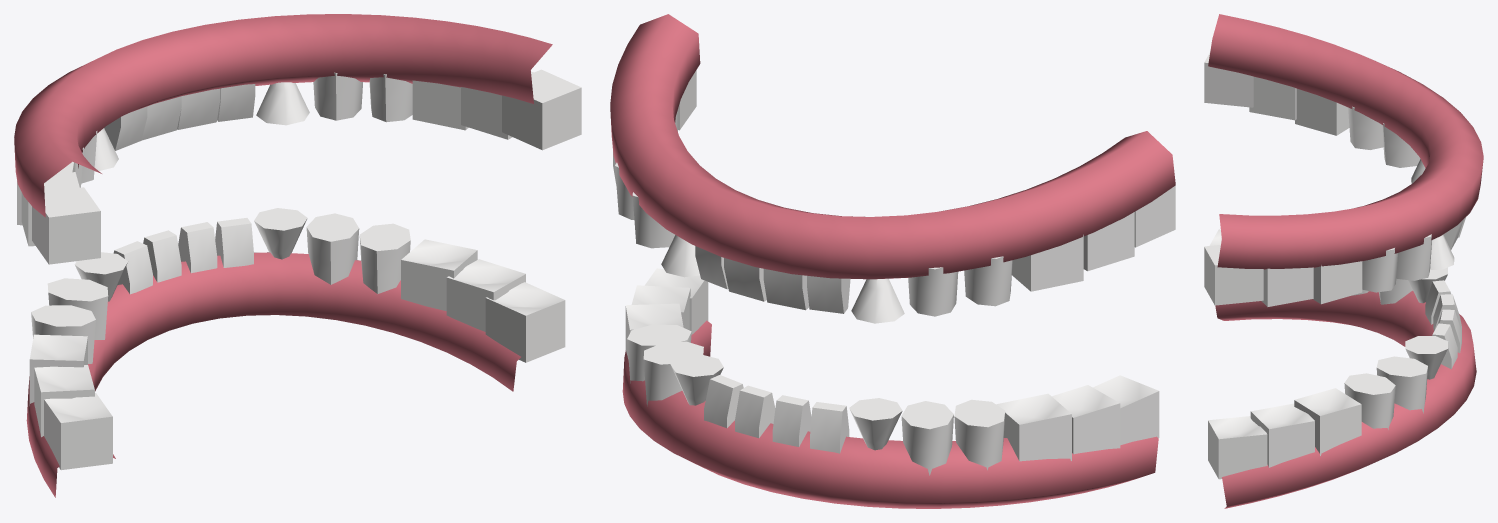
Rendered from dental_arch_clean.glb.
3 views of the same model, side by side, from view 1: azimuth 30°, elevation 25°; view 2: azimuth 150°, elevation 25°; view 3: azimuth 270°, elevation 25° (orthographic). The views are drawn at different scales.
Visible parts, largest first — view 1: Gingiva_Upper, Gingiva_Lower, Tooth_38, Tooth_28, Tooth_48, Tooth_18, Tooth_36, Tooth_37, Tooth_34, Tooth_35, Tooth_47, Tooth_26 (+19 smaller); view 2: Gingiva_Upper, Gingiva_Lower, Tooth_46, Tooth_47, Tooth_44, Tooth_45, Tooth_48, Tooth_16, Tooth_34, Tooth_17, Tooth_14, Tooth_15 (+19 smaller); view 3: Gingiva_Upper, Gingiva_Lower, Tooth_38, Tooth_36, Tooth_37, Tooth_28, Tooth_35, Tooth_34, Tooth_18, Tooth_16, Tooth_27, Tooth_26 (+13 smaller).
Boxes of the visible parts, bbox=[...] form: Gingiva_Upper: bbox=[14, 14, 552, 217]; Gingiva_Lower: bbox=[26, 252, 520, 497]; Tooth_38: bbox=[485, 282, 565, 362]; Tooth_28: bbox=[502, 69, 581, 150]; Tooth_48: bbox=[44, 393, 112, 470]; Tooth_18: bbox=[32, 187, 100, 264]; Tooth_36: bbox=[401, 239, 477, 310]; Tooth_37: bbox=[446, 259, 525, 331]; Tooth_34: bbox=[306, 213, 359, 284]; Tooth_35: bbox=[359, 223, 410, 293]; Tooth_47: bbox=[34, 365, 94, 437]; Tooth_26: bbox=[412, 80, 468, 130]; Gingiva_Upper: bbox=[610, 14, 1175, 279]; Gingiva_Lower: bbox=[622, 320, 1158, 508]; Tooth_46: bbox=[996, 393, 1071, 461]; Tooth_47: bbox=[1052, 385, 1120, 454]; Tooth_44: bbox=[901, 401, 953, 475]; Tooth_45: bbox=[954, 399, 1005, 470]; Tooth_48: bbox=[1093, 375, 1159, 445]; Tooth_16: bbox=[1012, 234, 1083, 291]; Tooth_34: bbox=[643, 341, 703, 406]; Tooth_17: bbox=[1083, 212, 1134, 271]; Tooth_14: bbox=[908, 267, 958, 316]; Tooth_15: bbox=[964, 256, 1012, 306]; Gingiva_Upper: bbox=[1208, 14, 1483, 269]; Gingiva_Lower: bbox=[1215, 290, 1476, 508]; Tooth_38: bbox=[1208, 416, 1267, 479]; Tooth_36: bbox=[1294, 388, 1361, 455]; Tooth_37: bbox=[1250, 403, 1314, 467]; Tooth_28: bbox=[1204, 245, 1263, 305]; Tooth_35: bbox=[1344, 373, 1395, 429]; Tooth_34: bbox=[1376, 356, 1427, 413]; Tooth_18: bbox=[1204, 52, 1253, 107]; Tooth_16: bbox=[1295, 89, 1349, 135]; Tooth_27: bbox=[1261, 267, 1313, 306]; Tooth_26: bbox=[1313, 261, 1362, 304].
Bounding box in the file's own units: 5.48 × 3.45 × 2.9.
